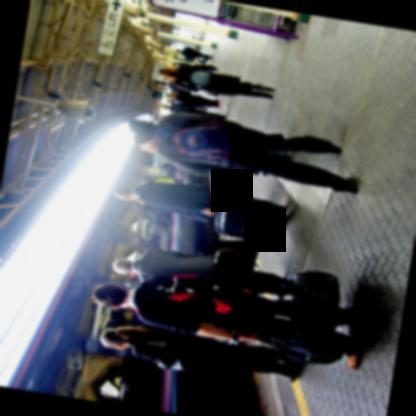backpack: (145, 274, 244, 315), (172, 118, 233, 158), (177, 63, 212, 85)
handbag: (254, 334, 344, 363), (212, 196, 270, 241), (143, 339, 193, 370), (196, 58, 206, 62)
suitcase: (286, 269, 340, 305)
